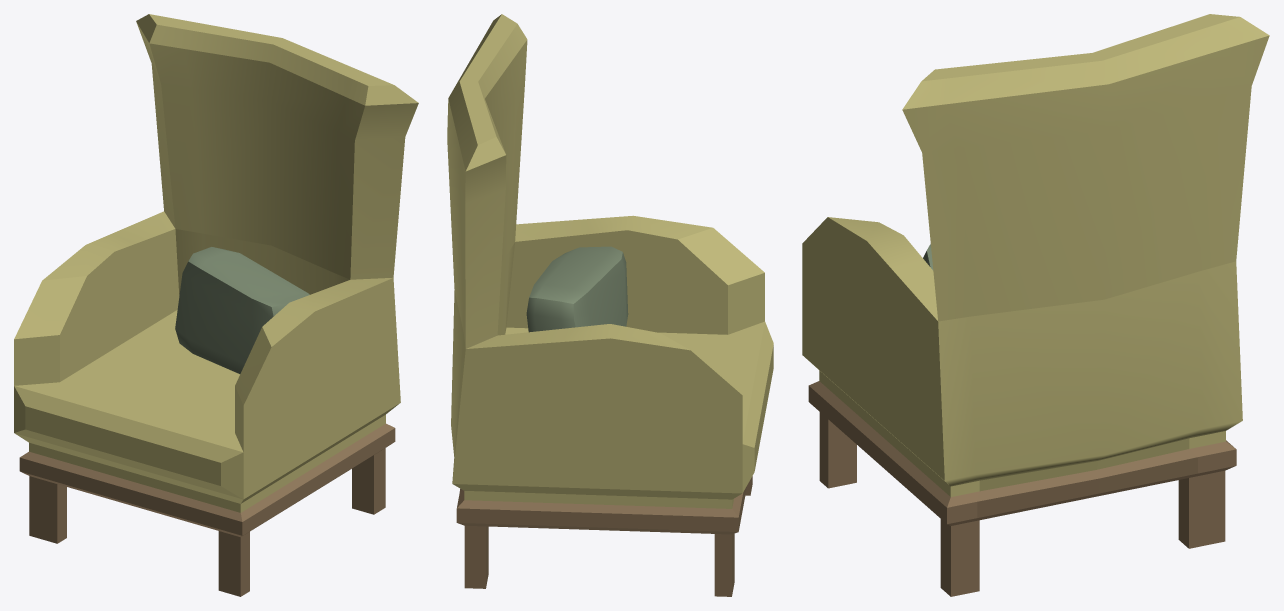
Rendered from ArmChair.fbx.
3 views of the same model, side by side, from view 1: azimuth 30°, elevation 25°; view 2: azimuth 150°, elevation 25°; view 3: azimuth 270°, elevation 25° (orthographic). The views are drawn at different scales.
Parts seen in each view (by area): view 1: ArmChair; view 2: ArmChair; view 3: ArmChair.
Boxes of the visible parts, x1,y1,x2,y2 form: ArmChair: (14,14,418,596); ArmChair: (447,14,773,596); ArmChair: (802,14,1269,596).
Bounding box in the file's own units: 43.39 × 55.76 × 46.
